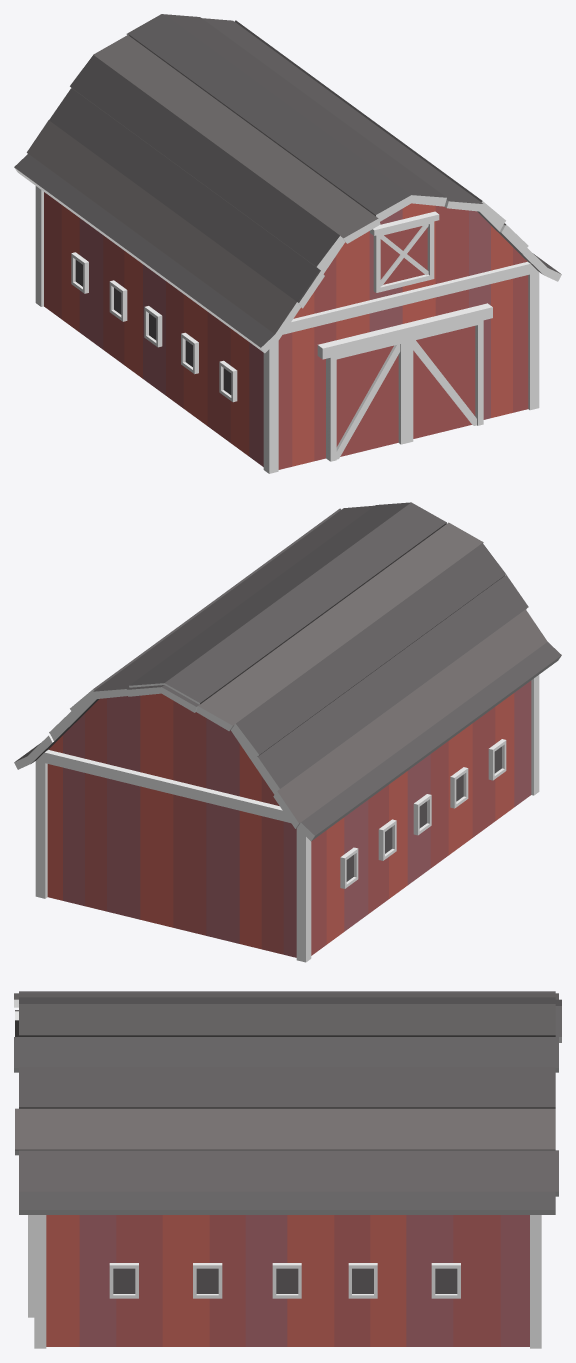
The model's file is Barn.fbx.
The picture shows the model from 3 angles, top to bottom: view 1: azimuth 30°, elevation 25°; view 2: azimuth 150°, elevation 25°; view 3: azimuth 270°, elevation 25°; orthographic projection. The views are drawn at different scales.
Parts seen in each view (by area): view 1: Barn; view 2: Barn; view 3: Barn.
Part boxes in pixels (<box>): Barn: <box>14,14,561,473</box>; Barn: <box>14,502,561,962</box>; Barn: <box>14,991,561,1348</box>.
Size of the model in its own units: 21.06 by 16.78 by 30.54.
